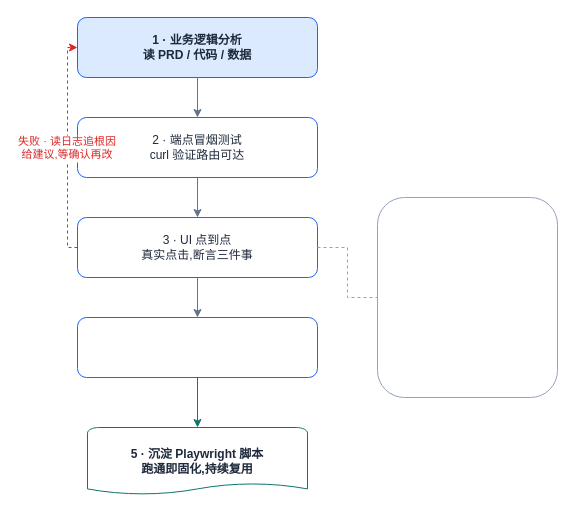
Some shapes in this 575 by 513 pixel diagram are drawn without their labels. The shapes that lost their labels are listed below. From the top down, each one's box as (x1, y1, x2, y2) in pixels, then its label:
(376, 196, 558, 398): 断言三件事 ① UI 反馈 Toast / 跳转 / 状态 ② 数据持久化 API / DB 有记录 ③ 可逆性 能取消 / 编辑 / 删除
(76, 316, 318, 378): 4 · 跨系统数据追踪 DOM + API + DB + 日志并行
